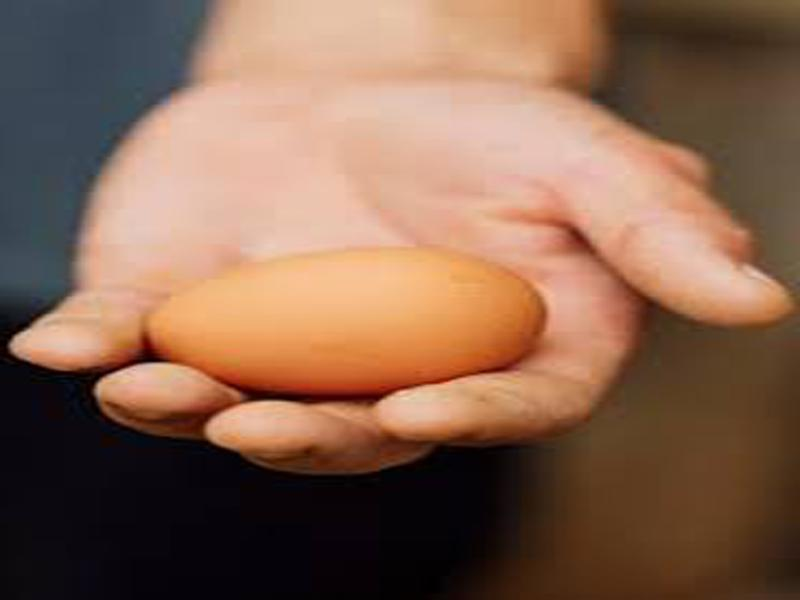Eggs: (143, 249, 541, 391)
